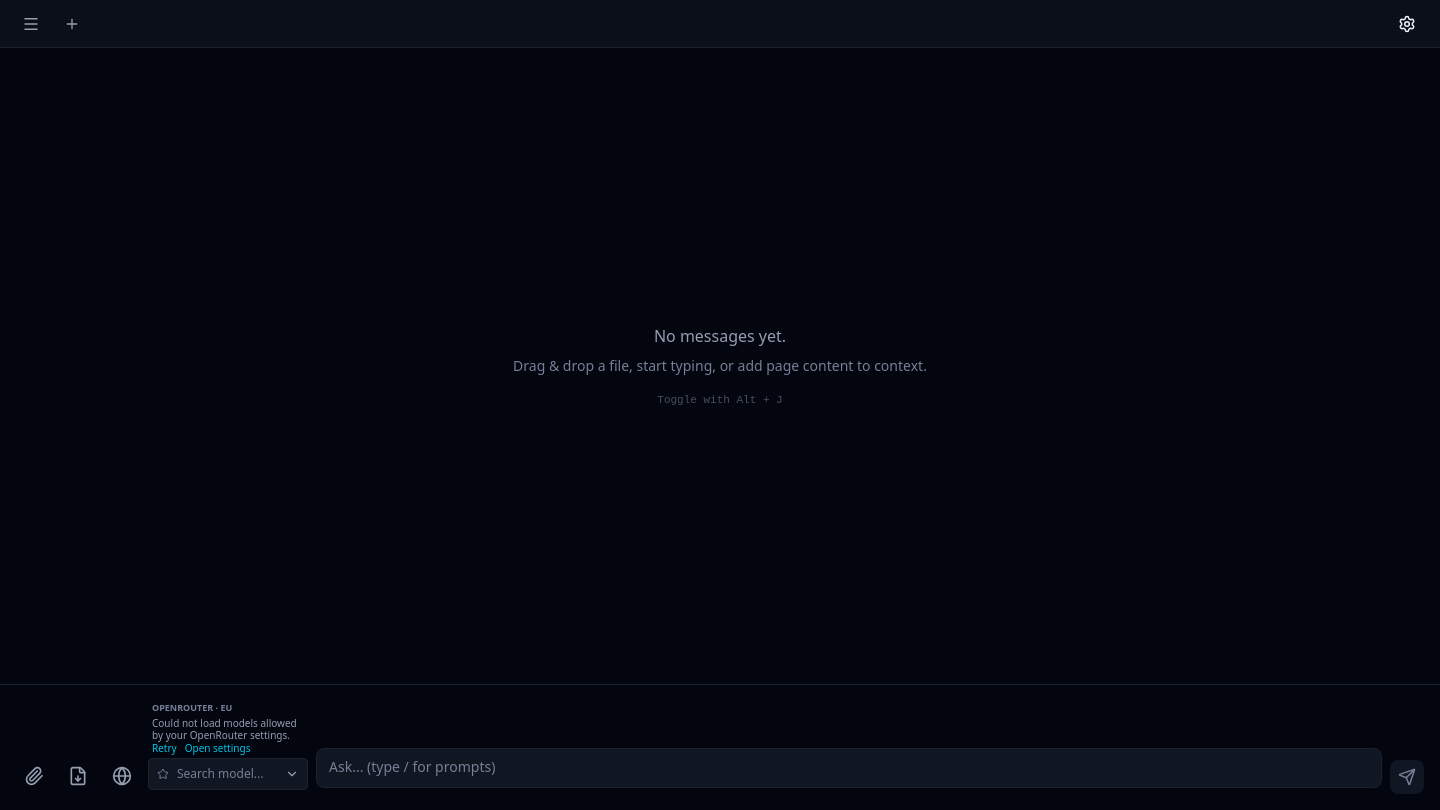
App OpenRouter catalogue › reports a failed discovery, blocks sending and retries discovery only
The width and height of the screenshot is (1440, 810).
Expected: the text "Could not load models allowed by your OpenRouter settings." is shown, [152,716,308,742]
Type "Hello" into the text box with placeholder "Ask... (type / for prompts)" at [849, 768], box [316,748,1382,788]
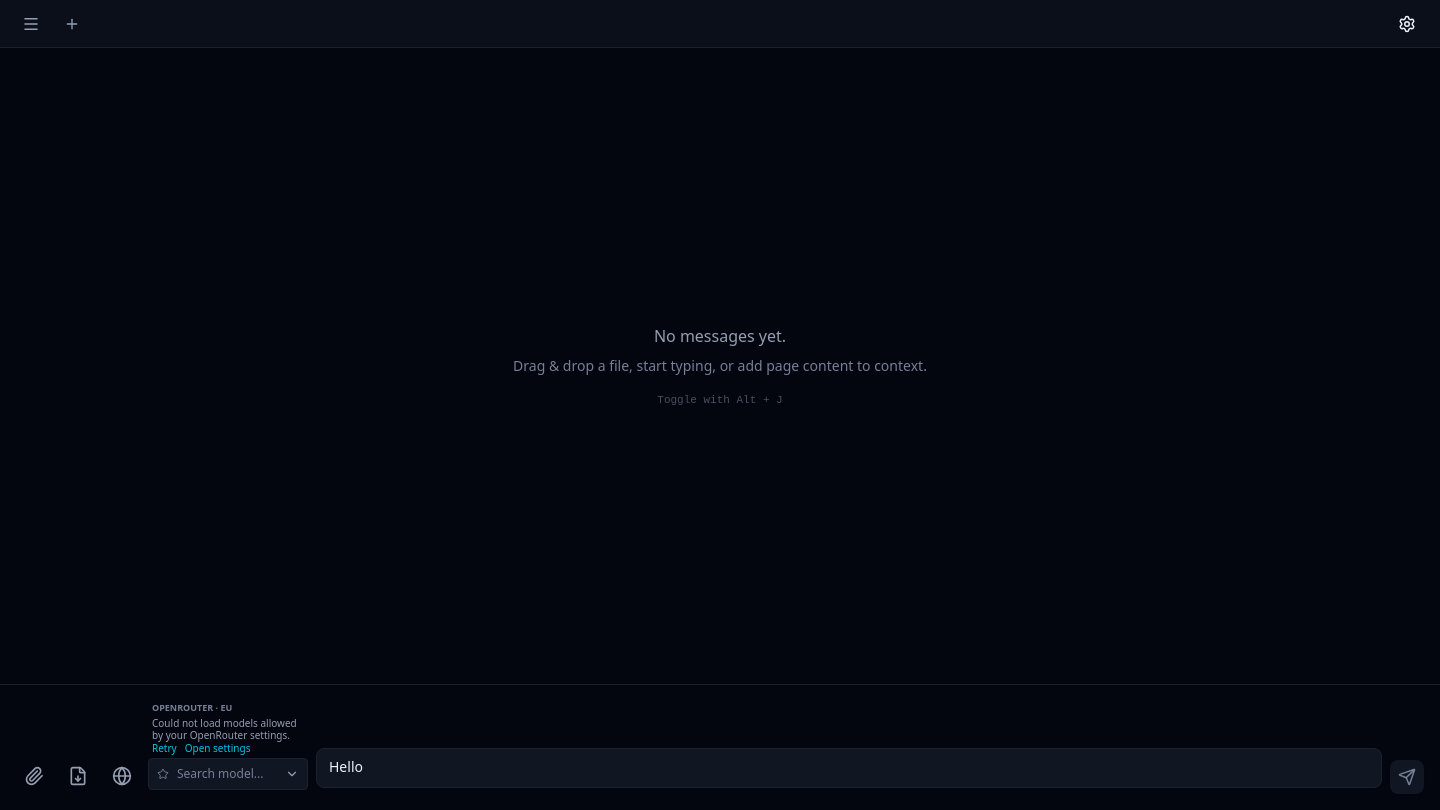
Expected: the button named "Send" is disabled, [1390,760,1424,794]
Press Enter in the text box with placeholder "Ask... (type / for prompts)", box [316,748,1382,788]
Click the button "Retry" at [164, 748], box [152,742,177,754]
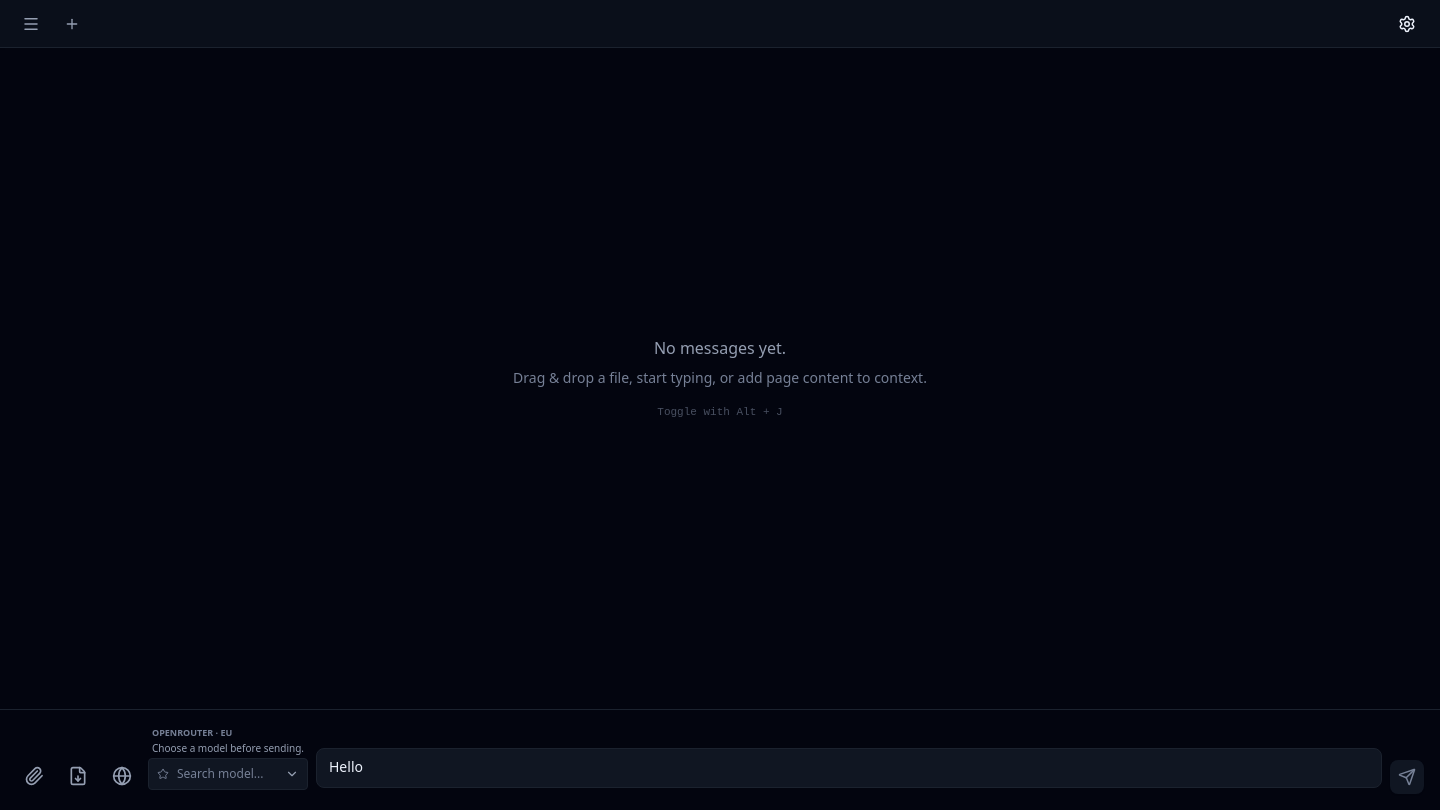
Expected: the text "Choose a model before sending." is shown, [152,742,308,754]
